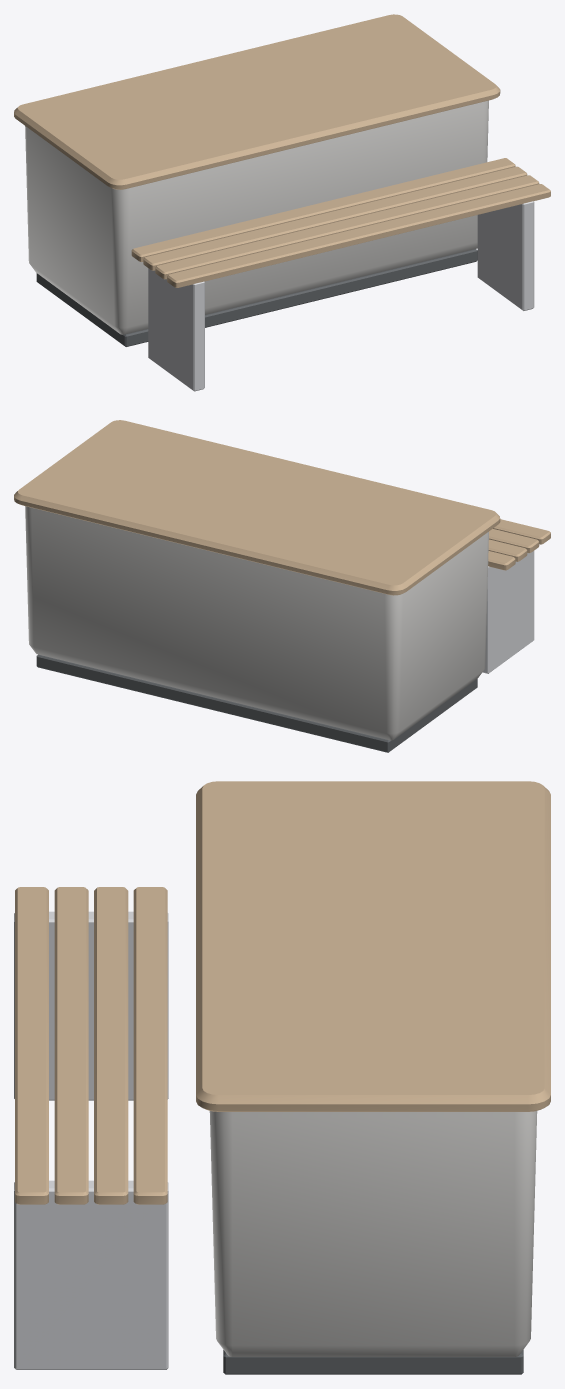
File: SM_Retail_25378_ConcoursePlanterBench.fbx
The picture shows the model from 3 angles, top to bottom: view 1: azimuth 30°, elevation 25°; view 2: azimuth 150°, elevation 25°; view 3: azimuth 270°, elevation 25°; orthographic projection. The views are drawn at different scales.
Parts seen in each view (by area): view 1: SM_Retail_25378_ConcoursePlanterBench; view 2: SM_Retail_25378_ConcoursePlanterBench; view 3: SM_Retail_25378_ConcoursePlanterBench.
Boxes of the visible parts, x1,y1,x2,y2 form: SM_Retail_25378_ConcoursePlanterBench: (14,14,550,391); SM_Retail_25378_ConcoursePlanterBench: (14,420,550,752); SM_Retail_25378_ConcoursePlanterBench: (14,781,550,1374).
Size of the model in its own units: 166 by 118 by 71.12.
